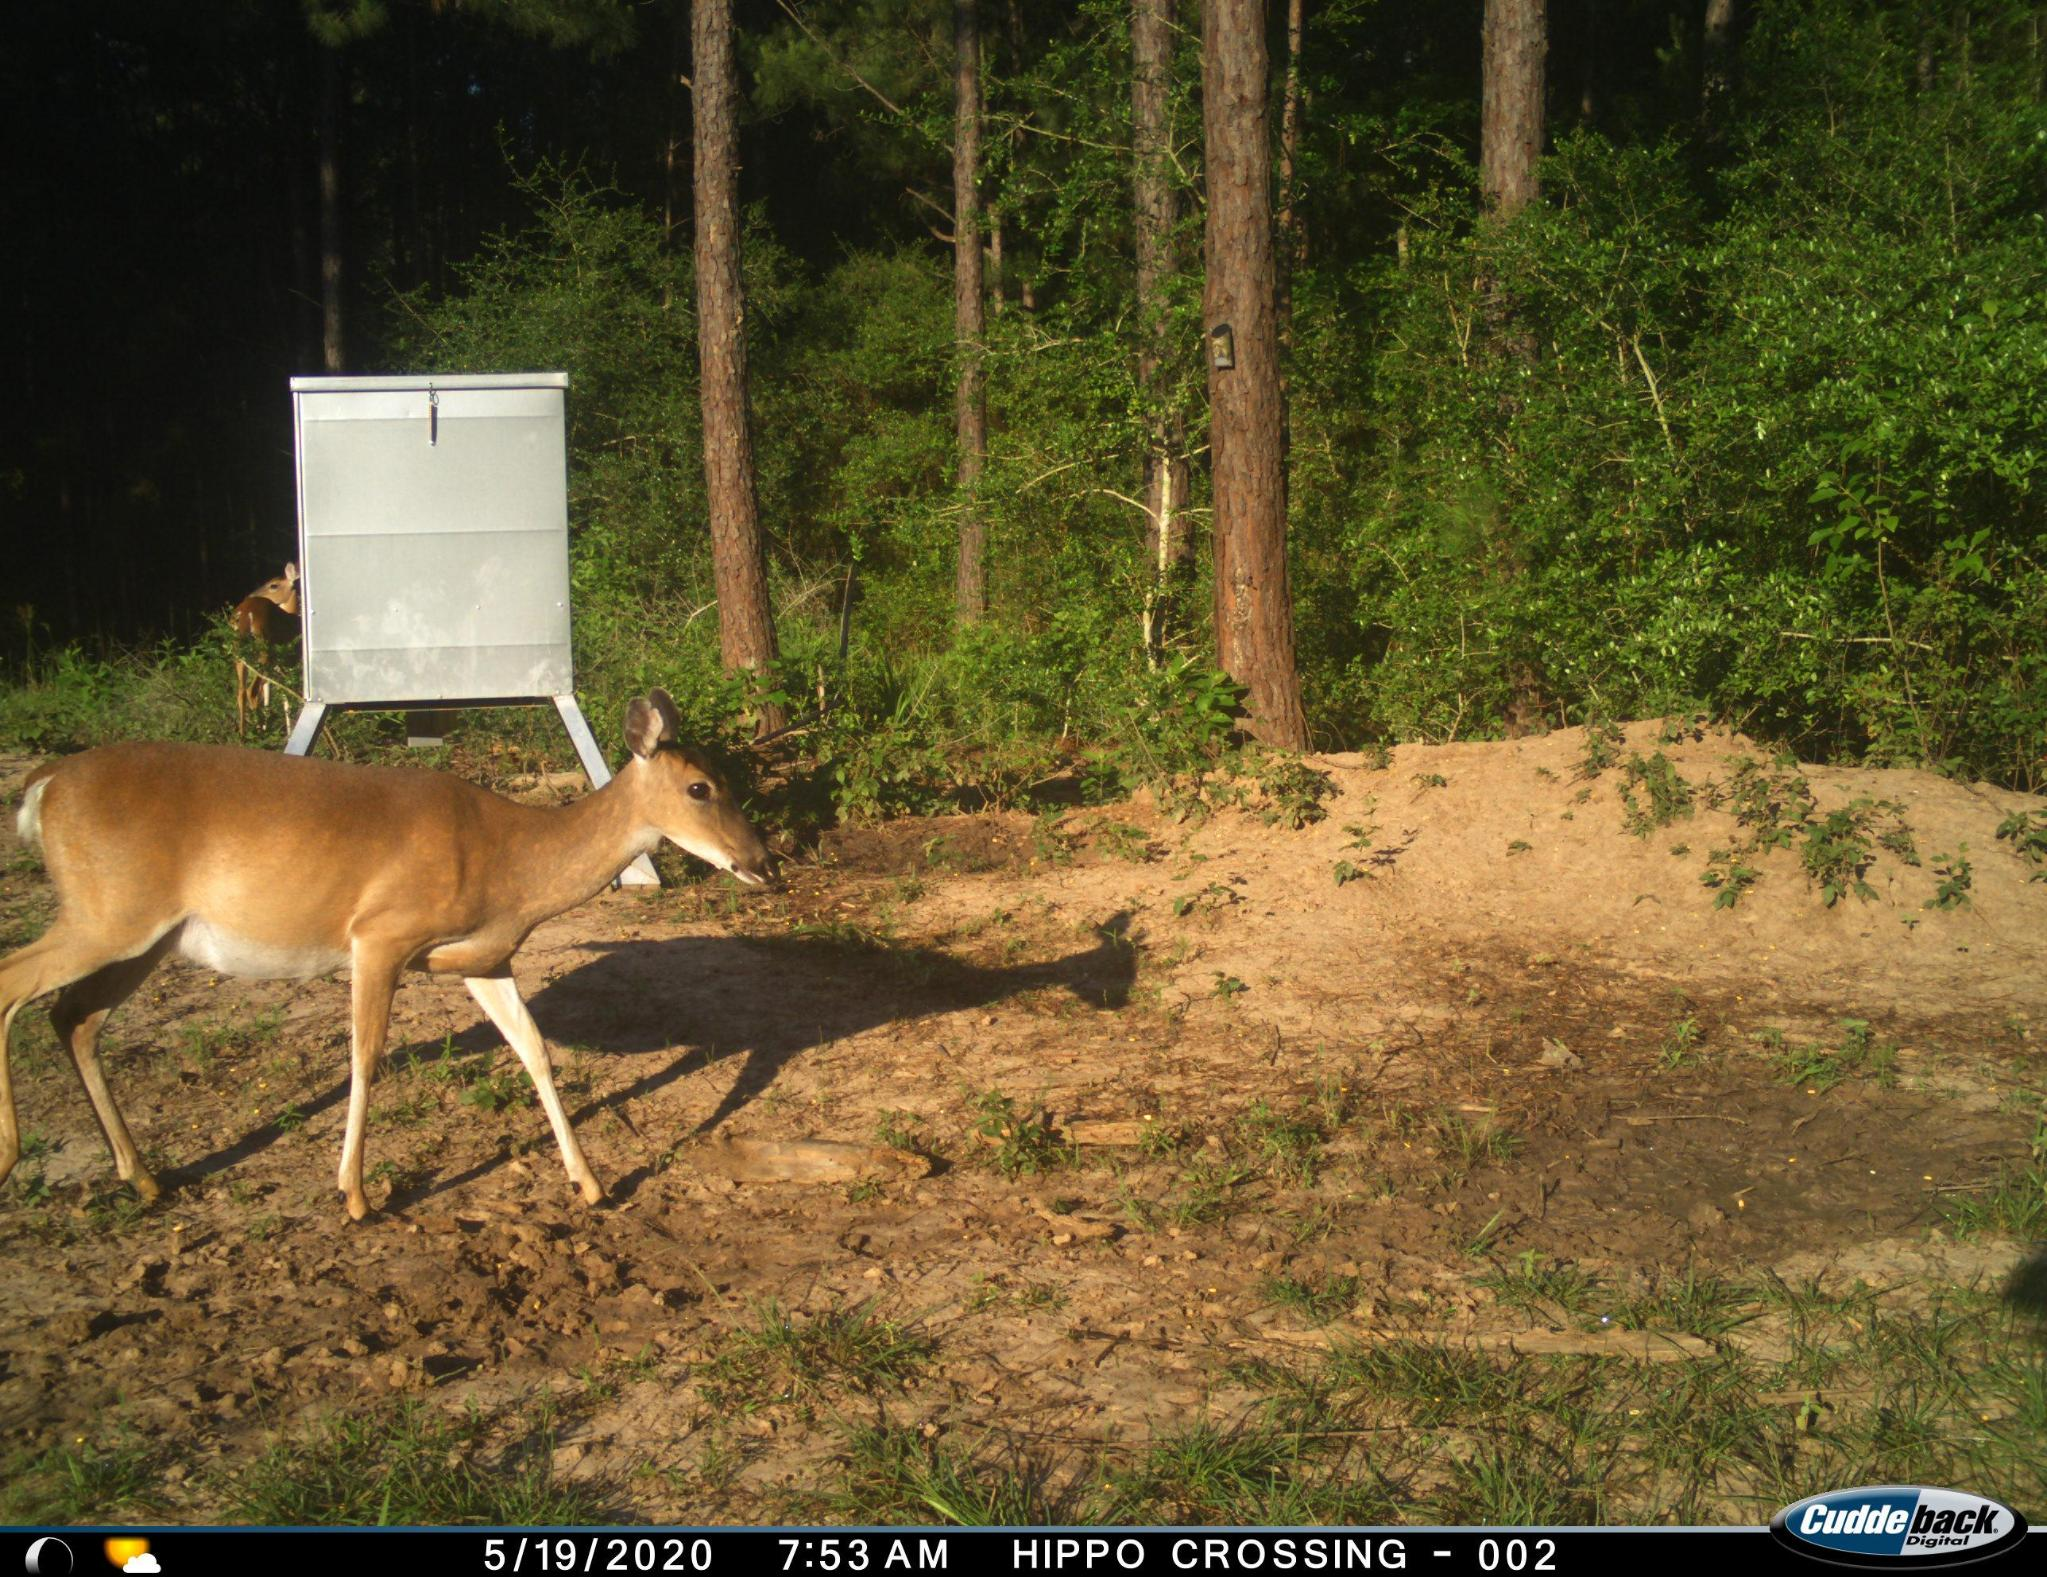Deer: (0, 684, 792, 1232), (222, 553, 316, 744)
